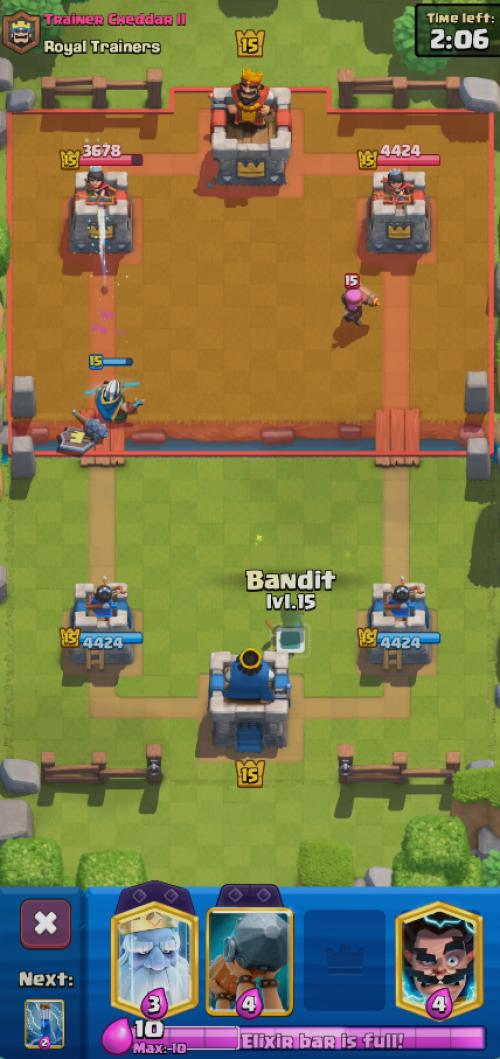Enemy-Firecracker: (340, 285, 381, 327)
Enemy-KingTower: (211, 70, 291, 187)
Enemy-PrincessTower: (68, 166, 135, 254), (366, 169, 430, 254)
